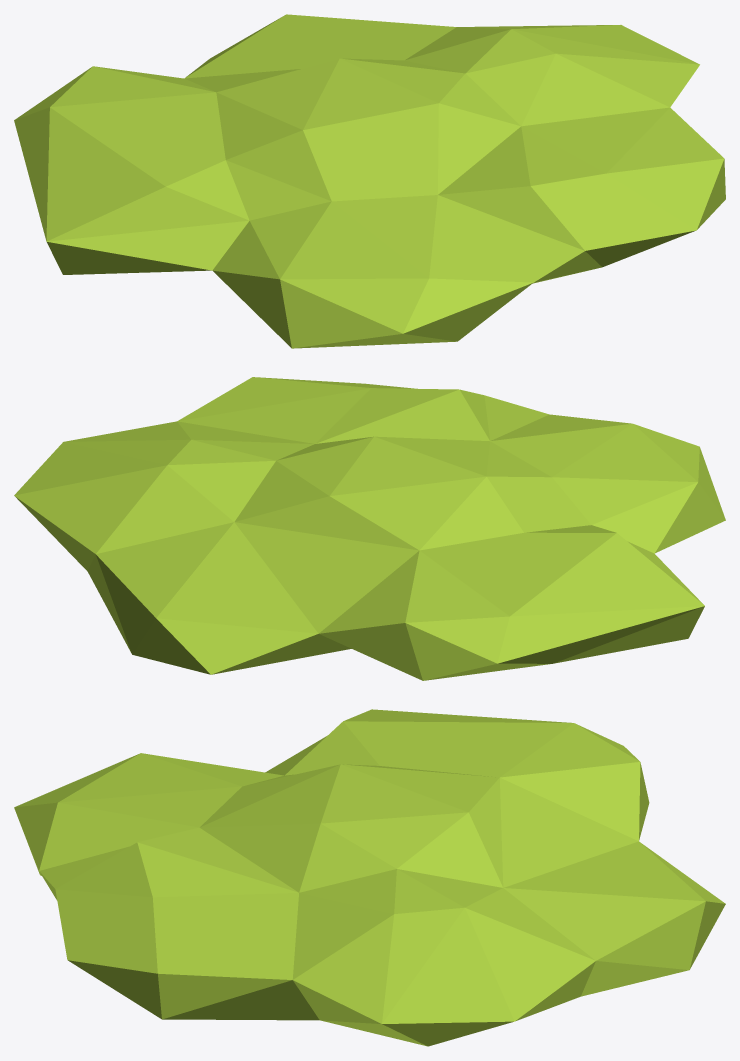
File: TreeGroup1.fbx
The picture shows the model from 3 angles, top to bottom: view 1: azimuth 30°, elevation 25°; view 2: azimuth 150°, elevation 25°; view 3: azimuth 270°, elevation 25°; orthographic projection. The views are drawn at different scales.
Visible parts, largest first — view 1: trees_1; view 2: trees_1; view 3: trees_1.
Part boxes in pixels (x1=…): trees_1: x1=14, y1=14, x2=725, y2=348; trees_1: x1=14, y1=377, x2=725, y2=680; trees_1: x1=14, y1=709, x2=725, y2=1046.
Bounding box in the file's own units: 2738 × 510 × 2514.
